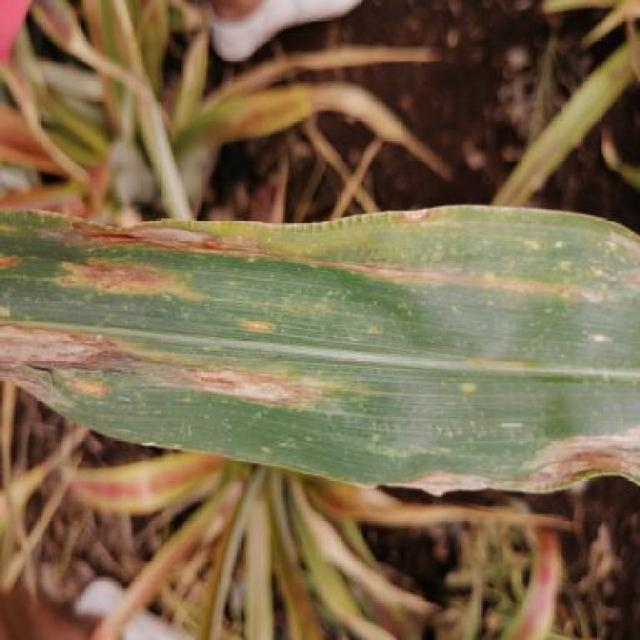Corn_Leaf_Blight: (0, 193, 640, 502)
